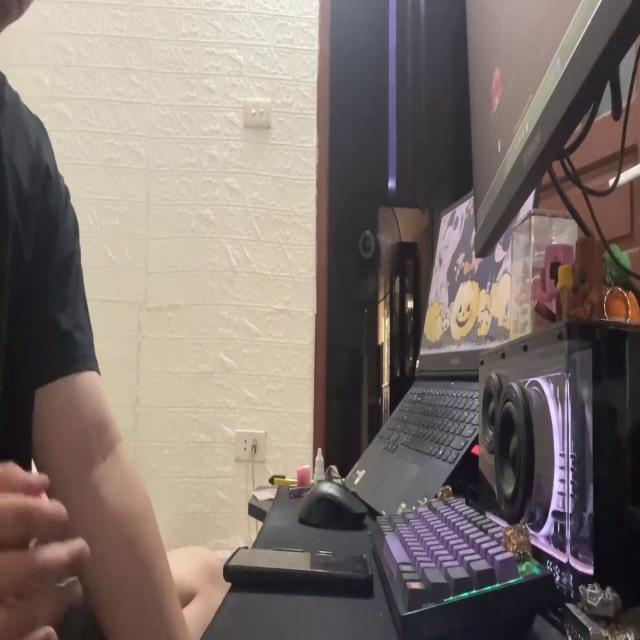laptop: (342, 177, 541, 521), (463, 0, 640, 259)
phone: (224, 536, 371, 597)
student: (0, 0, 229, 640)
